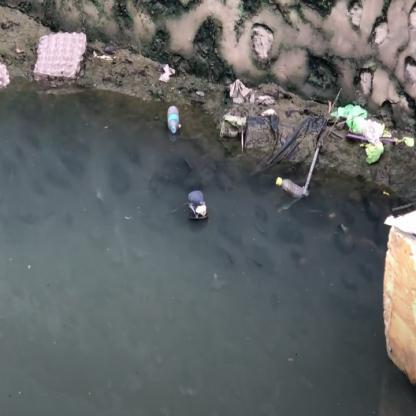plastic bottle: (275, 177, 307, 198), (167, 106, 180, 132)
